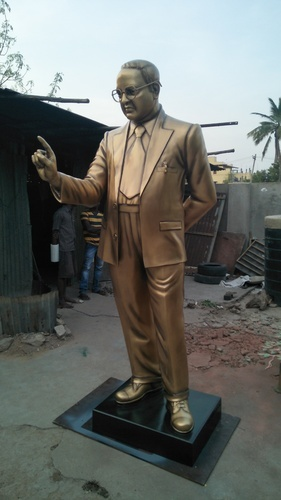person-like: (23, 56, 226, 435)
